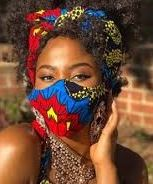with_facemask: (34, 66, 96, 131)
